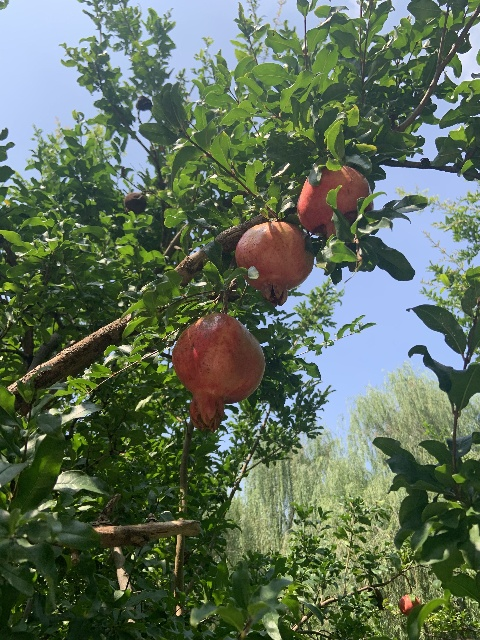flower: (399, 593, 421, 616)
ripe: (172, 313, 264, 431), (235, 220, 314, 306), (297, 165, 373, 238)
